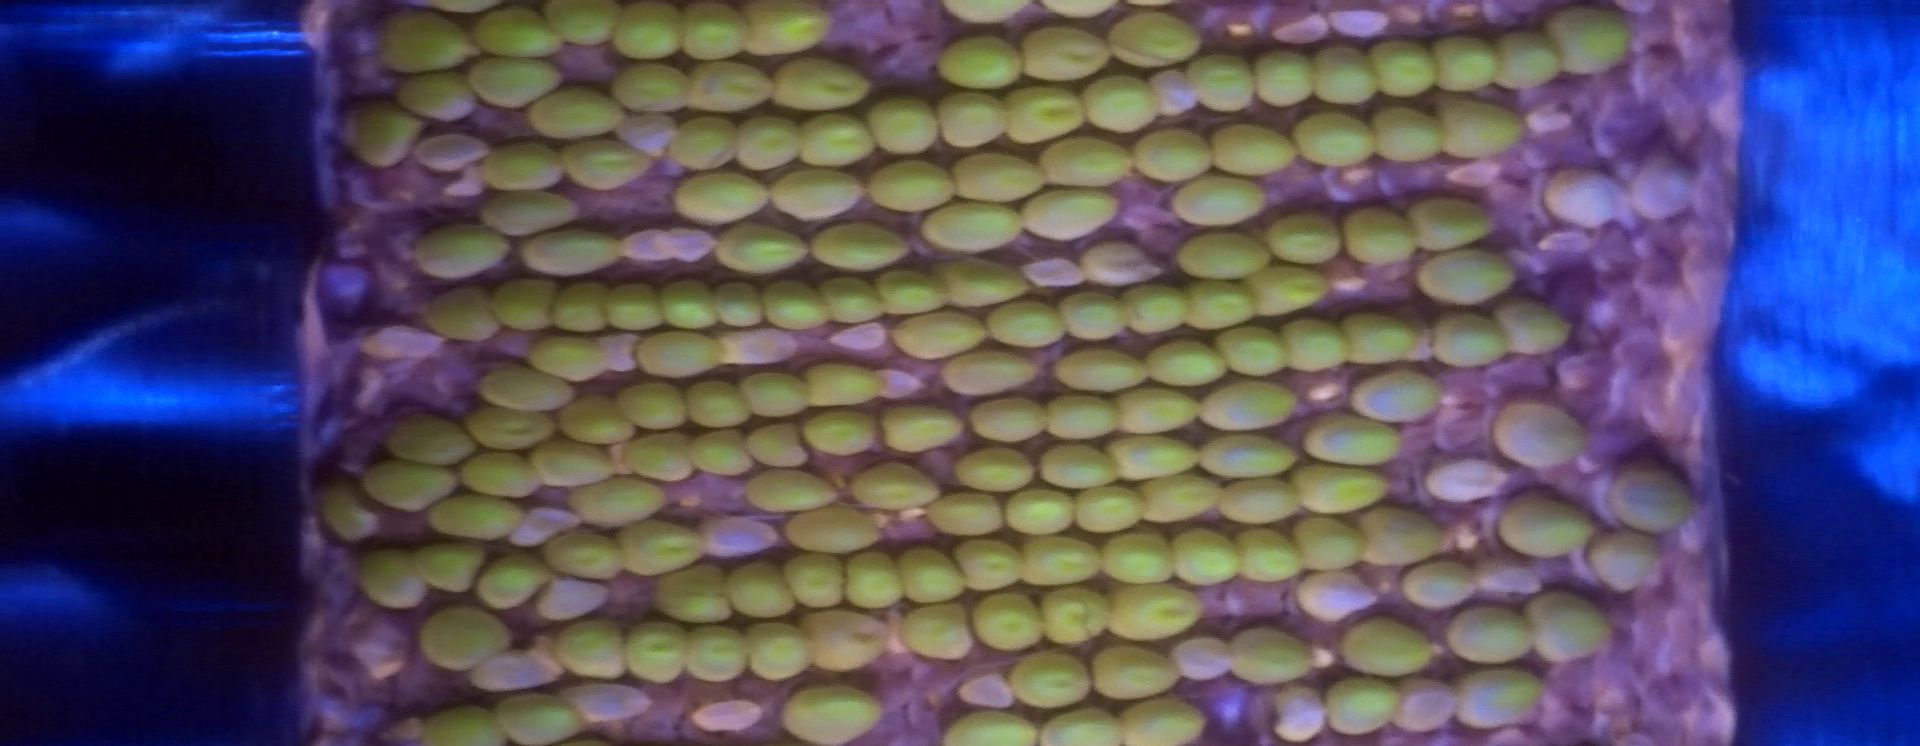fluorescent: (1097, 584, 1201, 646), (373, 9, 471, 73), (1498, 494, 1591, 561), (414, 609, 511, 673), (1489, 403, 1580, 469), (1343, 197, 1425, 269), (1524, 593, 1609, 663), (1607, 465, 1693, 533), (1209, 122, 1305, 181), (804, 610, 891, 674), (1177, 225, 1267, 285), (1090, 642, 1182, 701), (678, 167, 768, 227), (782, 684, 876, 741), (520, 225, 623, 277), (920, 202, 1022, 254), (1204, 381, 1299, 436), (1417, 251, 1510, 307), (1449, 604, 1538, 661), (1107, 12, 1198, 69), (770, 61, 869, 111), (719, 223, 816, 274), (429, 490, 520, 544), (1344, 624, 1436, 677), (1024, 190, 1117, 243), (1458, 668, 1542, 726), (1007, 85, 1091, 142), (1303, 416, 1400, 467), (359, 459, 448, 513), (767, 171, 864, 220), (473, 5, 560, 60), (1043, 138, 1136, 190), (866, 159, 956, 212), (529, 437, 620, 490), (1018, 26, 1106, 80), (536, 530, 624, 583), (1356, 369, 1438, 425), (524, 92, 628, 136), (1171, 179, 1269, 225), (607, 2, 683, 62), (415, 224, 500, 278), (653, 567, 733, 624), (389, 416, 480, 467), (351, 550, 429, 609), (1360, 511, 1442, 566), (474, 364, 568, 412), (817, 219, 909, 268), (618, 519, 699, 575), (348, 102, 413, 170), (1554, 9, 1624, 72), (932, 91, 1009, 148), (1011, 650, 1089, 708), (557, 140, 648, 189), (1128, 127, 1210, 181), (1296, 111, 1378, 165), (613, 62, 693, 118), (571, 478, 662, 526), (1199, 434, 1304, 475), (1082, 69, 1152, 131), (951, 152, 1047, 197), (556, 624, 629, 682), (937, 37, 1022, 87), (470, 403, 553, 454), (741, 470, 833, 517), (479, 141, 568, 189), (1431, 314, 1510, 367), (500, 693, 579, 746), (1498, 301, 1573, 356), (420, 287, 496, 342), (748, 2, 831, 53), (1298, 514, 1370, 572), (400, 69, 478, 122), (898, 312, 984, 360), (471, 59, 556, 108), (972, 592, 1046, 648), (1592, 530, 1660, 590), (482, 194, 576, 238), (1297, 462, 1382, 510), (1184, 279, 1260, 333), (959, 534, 1031, 590), (806, 359, 883, 412), (945, 257, 1026, 307), (1113, 432, 1194, 483), (1227, 628, 1308, 679), (621, 624, 687, 685), (1441, 102, 1520, 153), (880, 403, 959, 454), (861, 461, 936, 514), (1056, 345, 1141, 392), (1370, 111, 1442, 167), (1144, 341, 1227, 388), (744, 619, 806, 684), (1044, 587, 1109, 648), (478, 551, 544, 611), (1106, 529, 1174, 587), (691, 64, 773, 111), (681, 5, 752, 60), (1379, 37, 1440, 100), (1264, 213, 1343, 262), (729, 560, 793, 620), (936, 356, 1035, 396), (1112, 391, 1202, 434), (1172, 527, 1240, 583), (1079, 245, 1163, 290), (1309, 47, 1373, 107), (1020, 537, 1102, 583), (1256, 265, 1329, 317), (1413, 202, 1493, 250), (898, 608, 972, 658), (872, 96, 936, 154), (632, 333, 727, 372), (797, 118, 873, 167), (1138, 479, 1220, 524), (544, 2, 623, 49), (1005, 484, 1079, 534), (989, 304, 1067, 352), (621, 434, 698, 481), (1342, 314, 1413, 365), (785, 508, 872, 550), (807, 405, 876, 458), (1074, 485, 1142, 538), (844, 552, 904, 612), (1120, 699, 1198, 746), (900, 548, 965, 603), (1223, 326, 1291, 379), (951, 445, 1033, 488), (489, 278, 553, 332), (1233, 527, 1297, 581), (531, 336, 605, 382), (1280, 320, 1346, 371), (669, 119, 740, 167), (942, 710, 1037, 746), (787, 556, 847, 612), (1043, 399, 1122, 442), (736, 120, 800, 173), (460, 451, 536, 495), (1222, 475, 1296, 521), (1037, 443, 1117, 485), (549, 283, 609, 338), (1195, 58, 1256, 111), (1406, 556, 1469, 608), (1438, 42, 1502, 92), (973, 399, 1043, 446), (1038, 708, 1122, 746), (687, 627, 748, 679), (563, 398, 632, 443), (1253, 50, 1313, 102), (691, 434, 762, 477), (422, 706, 497, 746), (601, 281, 658, 333), (877, 268, 940, 315), (1500, 39, 1559, 89), (741, 372, 806, 418), (1120, 285, 1182, 333), (1060, 290, 1116, 343), (936, 496, 1007, 537), (416, 545, 478, 592), (623, 380, 684, 425), (324, 485, 378, 537), (660, 279, 710, 334), (767, 283, 823, 332), (710, 282, 764, 330), (746, 425, 807, 465), (824, 278, 873, 323)
